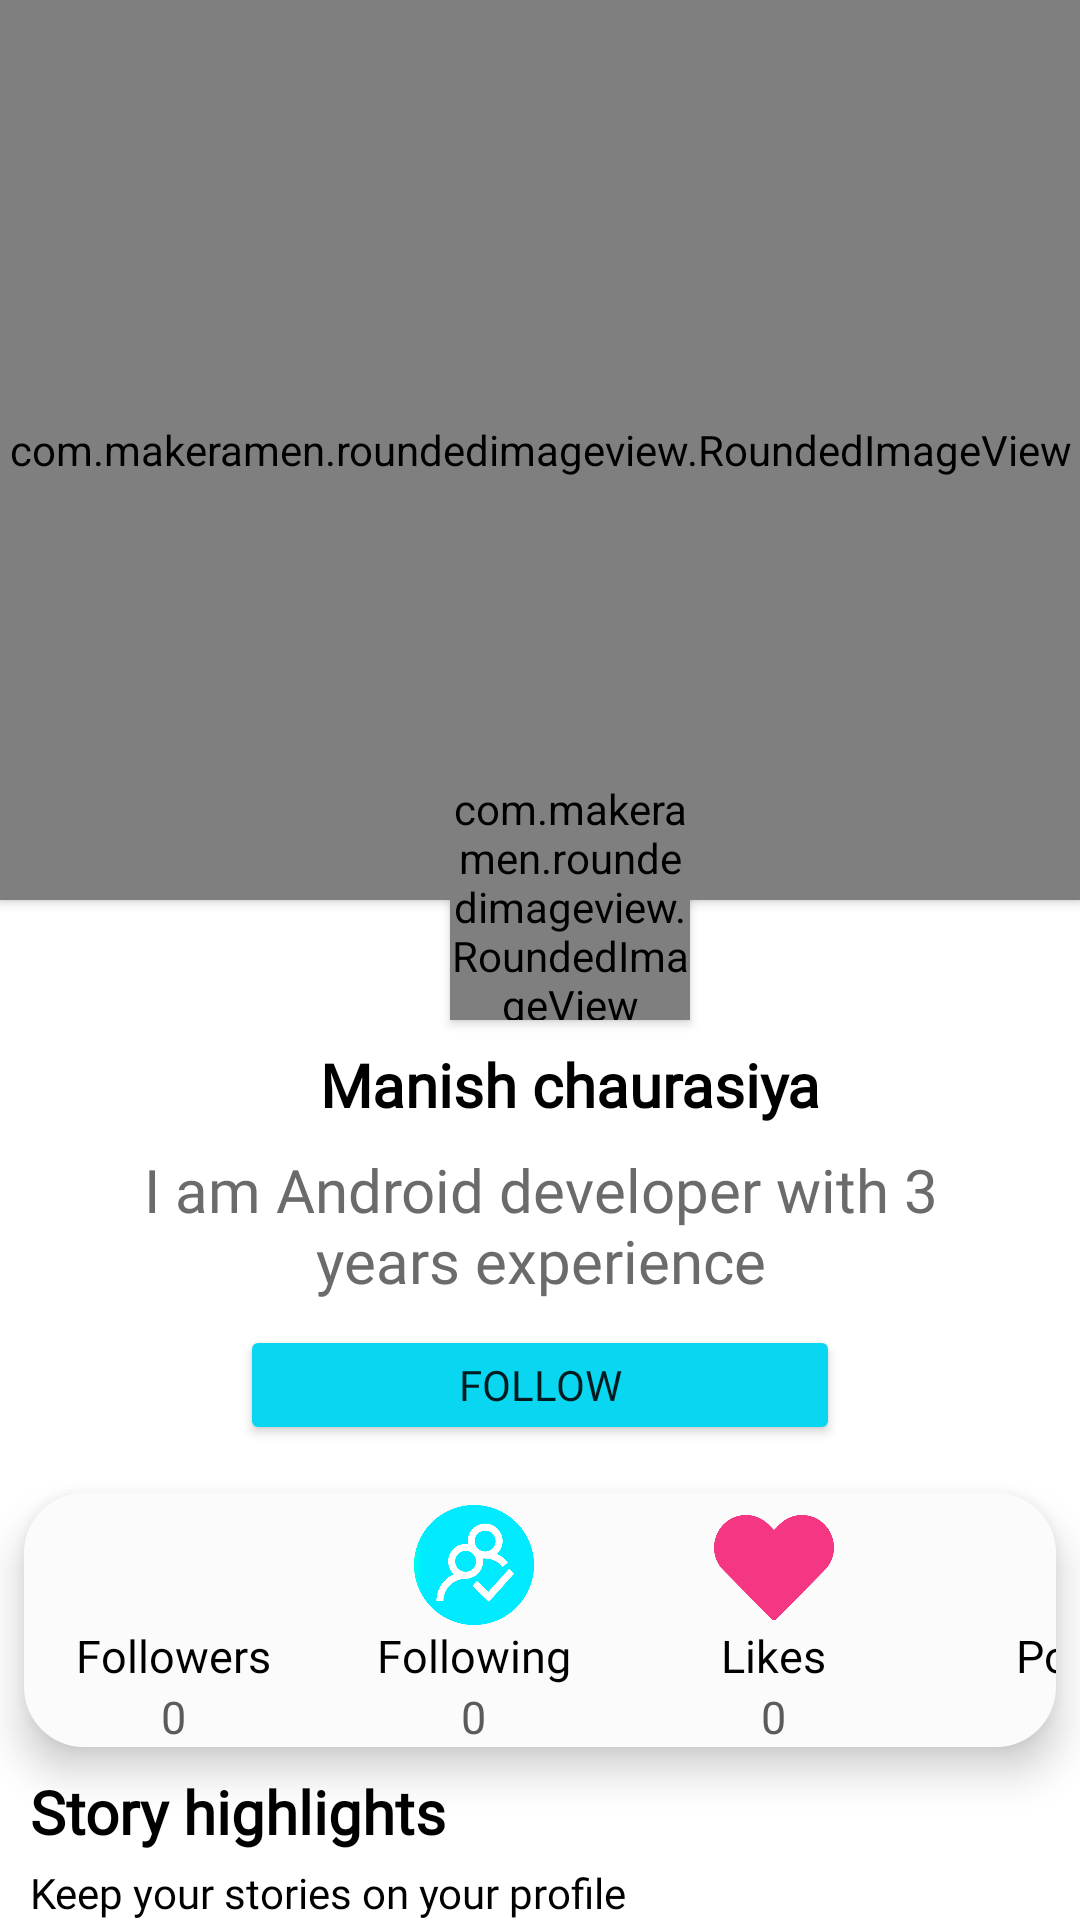

Where to tap for icons on this 1080*1920 app screen, as (x,y):
heart: (774,1567)
